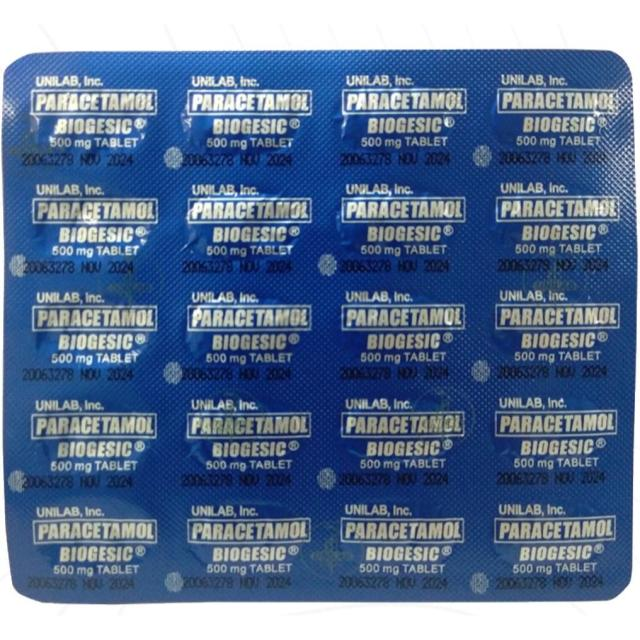blister: (0, 48, 632, 606)
